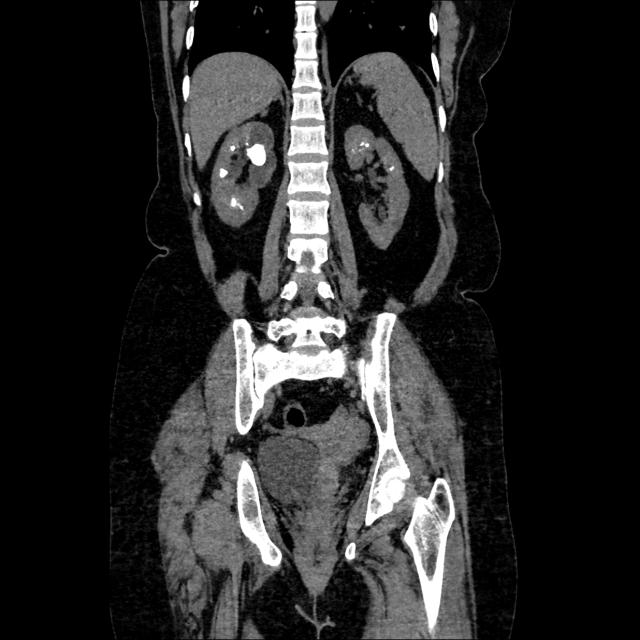kidney: (343, 125, 410, 254), (210, 118, 280, 233)
stone: (248, 141, 266, 169), (228, 193, 239, 210), (219, 164, 230, 179)
